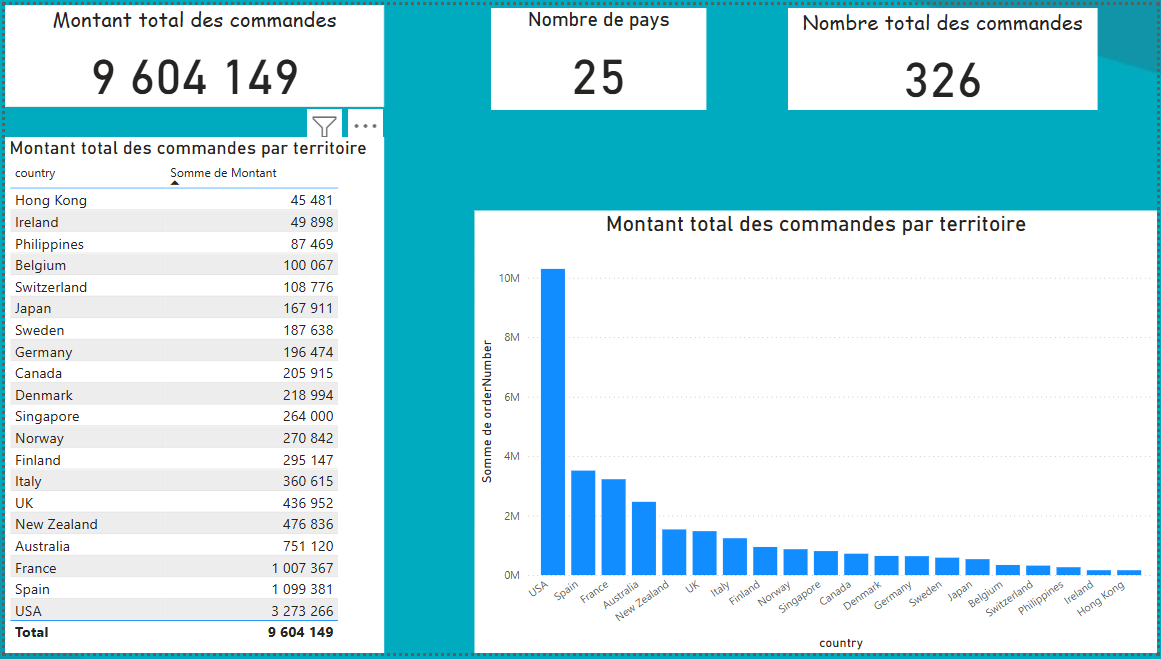

What the dashboard file says about the page in this screenshot:
{"tool":"powerbi","page":{"name":"QUESTION 1 ","canvas":[1280,720],"ordinal":1},"visuals":[{"type":"card","title":"Montant total des commandes","fields":{"Values":["Sum(datawarehouse fact_orderdetails.Montant)"]},"box":[0,4.3,421.1,124.6],"z":0},{"type":"card","title":"Nombre total des commandes","fields":{"Values":["Count(datawarehouse fact_orderdetails.orderNumber)"]},"box":[936.8,4.3,343.8,124.6],"z":1000},{"type":"tableEx","title":"Montant total des commandes par territoire","fields":{"Values":["datawarehouse dim_customers.country","Sum(datawarehouse fact_orderdetails.Montant)"]},"box":[0,154.7,461.2,565.8],"z":2000},{"type":"card","title":"Nombre de pays ","fields":{"Values":["Count(datawarehouse dim_customers.country)"]},"box":[577.3,4.3,226.3,120.3],"z":3000},{"type":"columnChart","title":"Montant total des commandes par territoire","fields":{"Category":["datawarehouse dim_customers.country"],"Y":["Sum(datawarehouse fact_orderdetails.orderNumber)"]},"box":[488.4,206.3,792.1,514.2],"z":4000}]}

Visuals, with their boxes in screenshot pixels (x1, y1, x2, y2), scaled from the page's 1280x720 canvas onto the 1161x659 screenshot:
"Montant total des commandes" card: pyautogui.locateOnScreen(0, 4, 382, 118)
"Nombre total des commandes" card: pyautogui.locateOnScreen(850, 4, 1160, 118)
"Montant total des commandes par territoire" tableEx: pyautogui.locateOnScreen(0, 142, 418, 658)
"Nombre de pays " card: pyautogui.locateOnScreen(524, 4, 729, 114)
"Montant total des commandes par territoire" columnChart: pyautogui.locateOnScreen(443, 189, 1160, 658)
